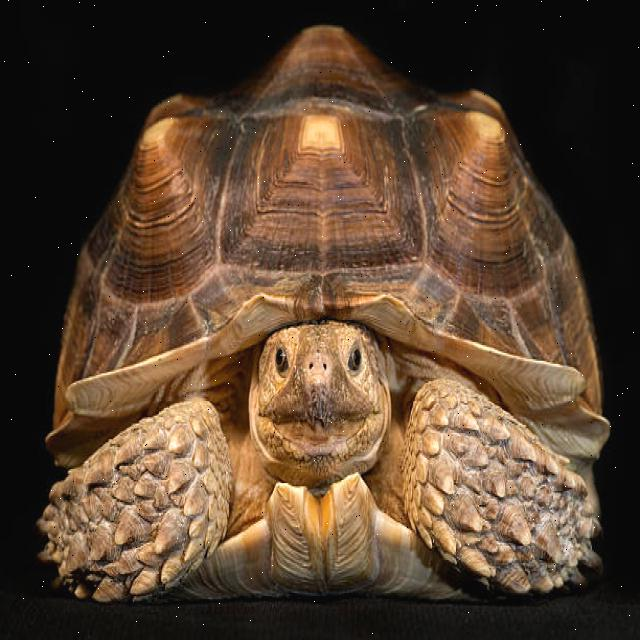tortoise: (41, 21, 611, 622)
